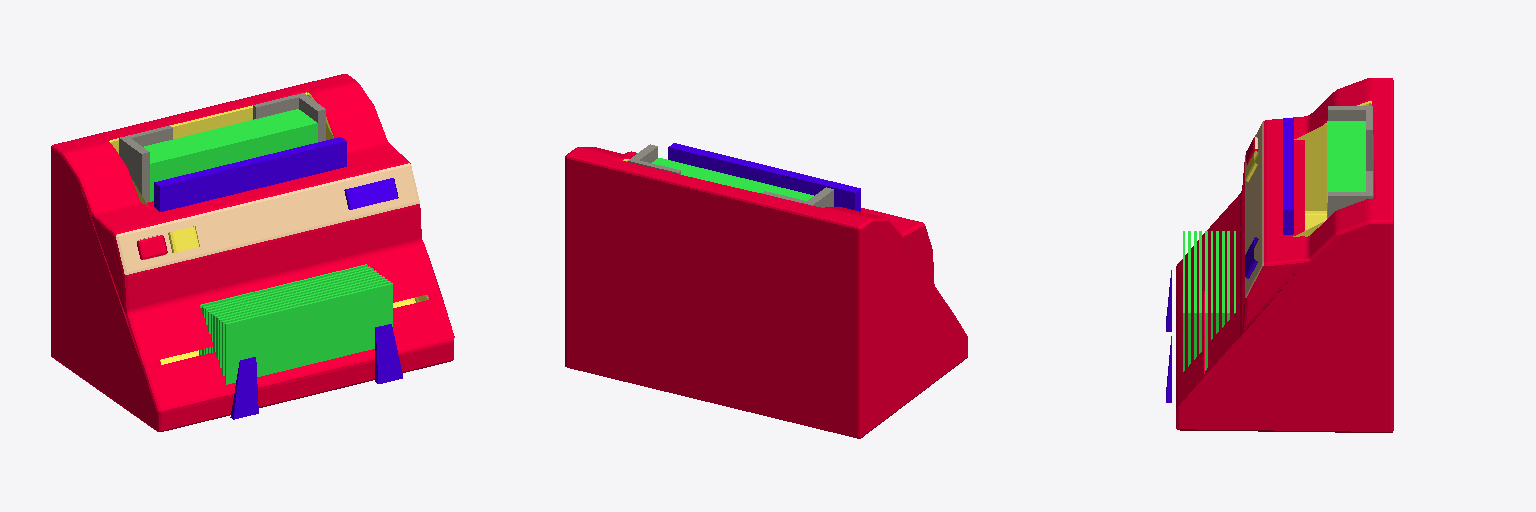
The model's file is 1801-moneymachine_2.obj.
3 views of the same model, side by side, from view 1: azimuth 30°, elevation 25°; view 2: azimuth 150°, elevation 25°; view 3: azimuth 270°, elevation 25° (orthographic).
Parts seen in each view (by area): view 1: Cube.008_Material.007, Cube.008_Material.002, Cube.008_Material.009, Cube.008_Material.001, Cube.008_Material.008, Cube.008_Material.012; view 2: Cube.008_Material.007, Cube.008_Material.001, Cube.008_Material.002, Cube.008_Material.008; view 3: Cube.008_Material.007, Cube.008_Material.002, Cube.008_Material.012, Cube.008_Material.001, Cube.008_Material.009, Cube.008_Material.008.
Part boxes in pixels (left/top/right/bottom): Cube.008_Material.007: left=51, top=74, right=454, bottom=431; Cube.008_Material.002: left=144, top=109, right=392, bottom=384; Cube.008_Material.009: left=116, top=163, right=419, bottom=274; Cube.008_Material.001: left=154, top=137, right=402, bottom=419; Cube.008_Material.008: left=119, top=93, right=325, bottom=202; Cube.008_Material.012: left=109, top=92, right=428, bottom=364; Cube.008_Material.007: left=565, top=147, right=967, bottom=438; Cube.008_Material.001: left=668, top=143, right=860, bottom=211; Cube.008_Material.002: left=652, top=158, right=813, bottom=200; Cube.008_Material.008: left=627, top=144, right=833, bottom=207; Cube.008_Material.007: left=1176, top=78, right=1393, bottom=432; Cube.008_Material.002: left=1183, top=121, right=1365, bottom=371; Cube.008_Material.012: left=1245, top=101, right=1373, bottom=236; Cube.008_Material.001: left=1166, top=118, right=1293, bottom=402; Cube.008_Material.009: left=1245, top=121, right=1263, bottom=297; Cube.008_Material.008: left=1328, top=106, right=1372, bottom=217.
Size of the model in its own units: 17.03 by 11.57 by 11.23.